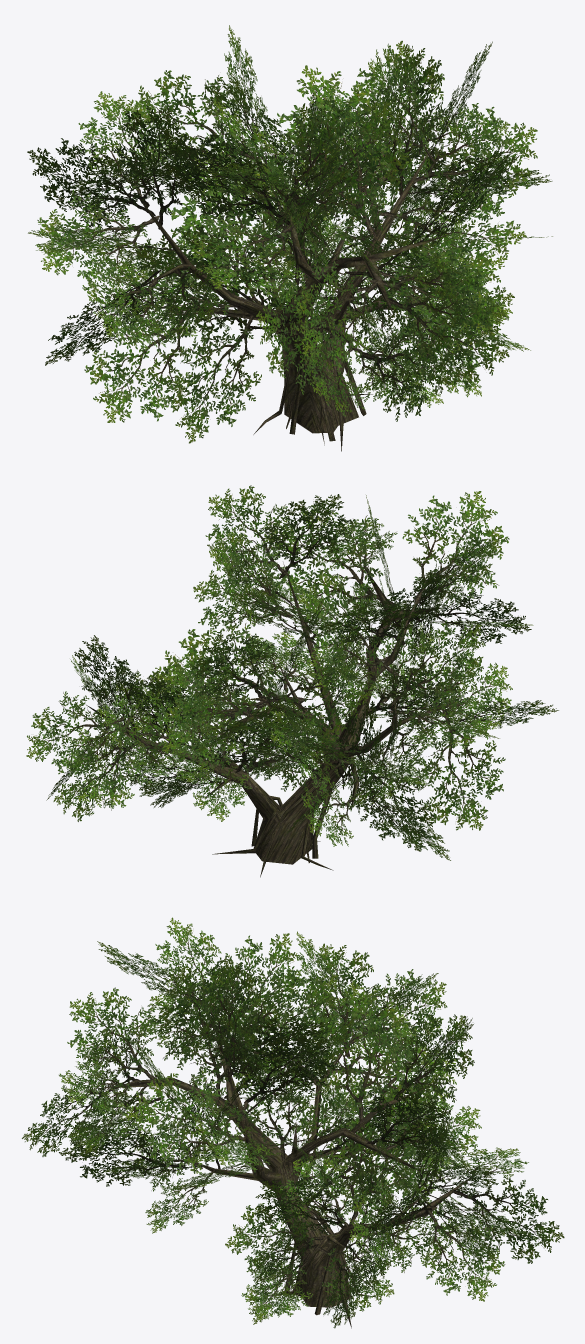
Rendered from Utility_Tree08_LOD2.FBX.
3 views of the same model, one above another, from view 1: azimuth 30°, elevation 25°; view 2: azimuth 150°, elevation 25°; view 3: azimuth 270°, elevation 25° (orthographic). The views are drawn at different scales.
Parts seen in each view (by area): view 1: cmc_shu08_02_LOD2, cmc_shu08_01_LOD2; view 2: cmc_shu08_02_LOD2, cmc_shu08_01_LOD2; view 3: cmc_shu08_02_LOD2, cmc_shu08_01_LOD2.
Part boxes in pixels (box(x1,y1,x2,y2)): cmc_shu08_02_LOD2: box(27, 25, 552, 443); cmc_shu08_01_LOD2: box(133, 137, 449, 451); cmc_shu08_02_LOD2: box(26, 485, 558, 860); cmc_shu08_01_LOD2: box(86, 562, 444, 877); cmc_shu08_02_LOD2: box(22, 917, 564, 1328); cmc_shu08_01_LOD2: box(98, 1008, 470, 1328).
Size of the model in its own units: 2529 by 1973 by 2807.
